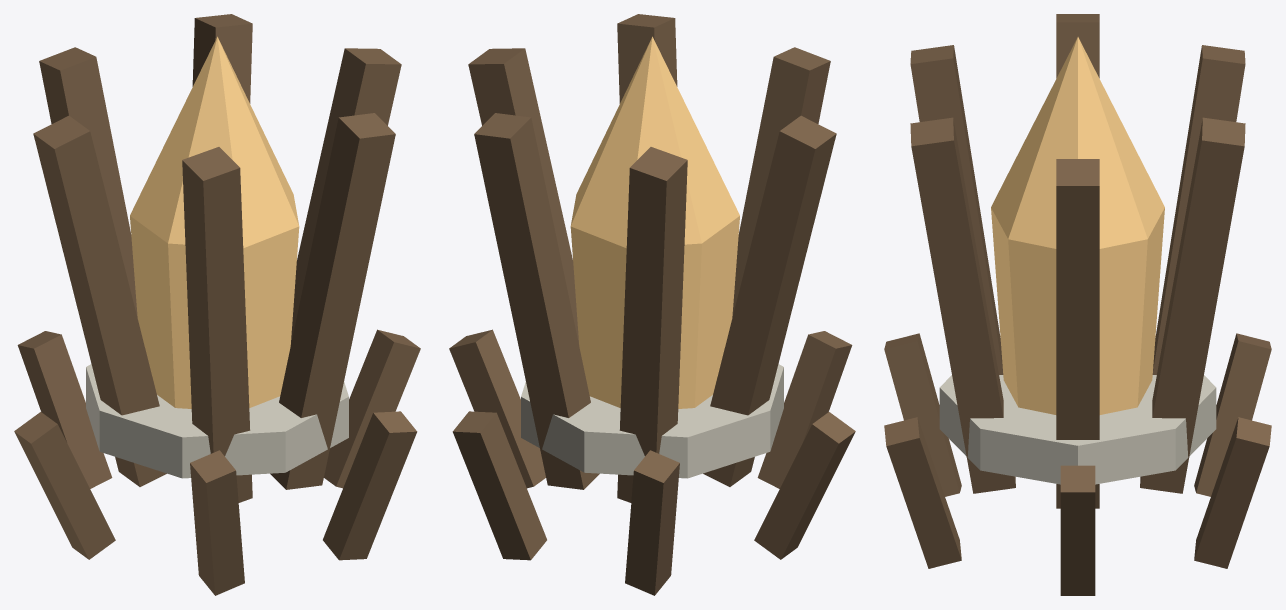
File: boss-elder-rootheart.glb
3 views of the same model, side by side, from view 1: azimuth 30°, elevation 25°; view 2: azimuth 150°, elevation 25°; view 3: azimuth 270°, elevation 25° (orthographic).
Visible parts, largest first — view 1: earth-core, root-1, root-3, root-2, root-collar, root-foot-1, root-4, root-foot-3, root-0, root-foot-2, root-foot-4, root-foot-0 (+1 smaller); view 2: earth-core, root-5, root-3, root-4, root-collar, root-foot-5, root-2, root-foot-3, root-0, root-foot-4, root-foot-2, root-foot-0 (+1 smaller); view 3: earth-core, root-collar, root-1, root-5, root-0, root-2, root-4, root-foot-1, root-foot-5, root-foot-2, root-foot-4, root-foot-0 (+1 smaller).
Part boxes in pixels (x1,y1,x2,y2): earth-core: (130, 36, 299, 408); root-1: (270, 113, 395, 489); root-3: (33, 115, 166, 486); root-2: (182, 147, 252, 502); root-collar: (86, 364, 348, 478); root-foot-1: (323, 411, 417, 560); root-4: (39, 47, 137, 317); root-foot-3: (14, 412, 115, 559); root-0: (290, 48, 401, 345); root-foot-2: (190, 450, 244, 595); root-foot-4: (17, 331, 112, 488); root-foot-0: (324, 329, 420, 488); earth-core: (570, 36, 739, 408); root-5: (474, 113, 599, 489); root-3: (703, 115, 836, 486); root-4: (617, 147, 687, 502); root-collar: (521, 364, 783, 478); root-foot-5: (452, 411, 546, 560); root-2: (732, 47, 830, 317); root-foot-3: (754, 412, 855, 559); root-0: (468, 48, 579, 345); root-foot-4: (625, 450, 679, 595); root-foot-2: (757, 331, 852, 488); root-foot-0: (449, 329, 545, 488); earth-core: (991, 37, 1164, 414); root-collar: (939, 375, 1216, 484); root-1: (910, 117, 1015, 493); root-5: (1140, 117, 1245, 493); root-0: (1056, 159, 1099, 508); root-2: (910, 45, 1003, 374); root-4: (1152, 45, 1245, 374); root-foot-1: (884, 417, 961, 568); root-foot-5: (1194, 417, 1271, 568); root-foot-2: (884, 333, 961, 496); root-foot-4: (1194, 333, 1271, 496); root-foot-0: (1060, 465, 1095, 595).
Bounding box in the file's own units: 0.7937 × 0.948 × 0.6725.
